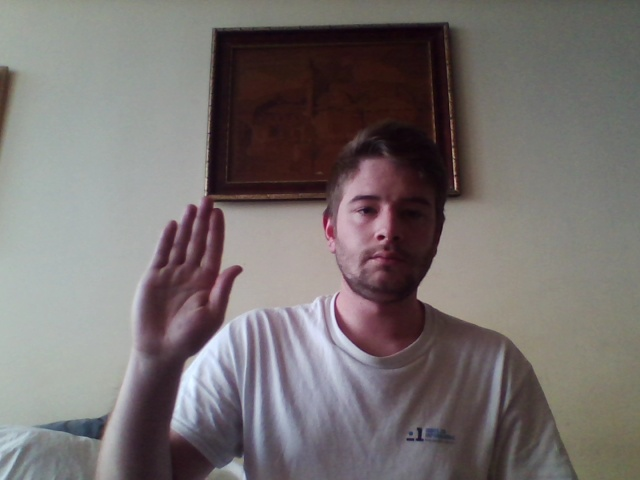pozdrav: (131, 190, 246, 356)
